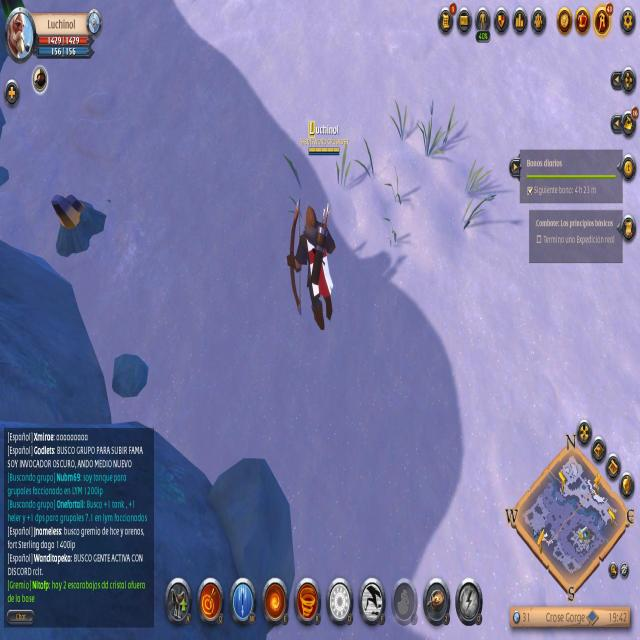piedra_cobre: (51, 195, 107, 258)
